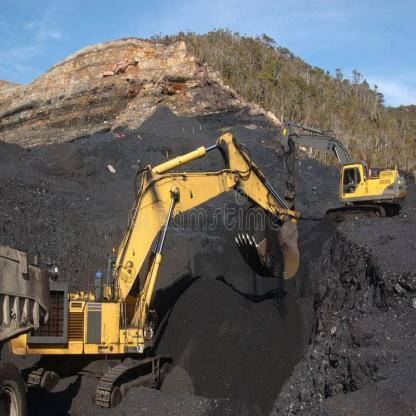excavator: (40, 114, 302, 407), (282, 110, 410, 228)
